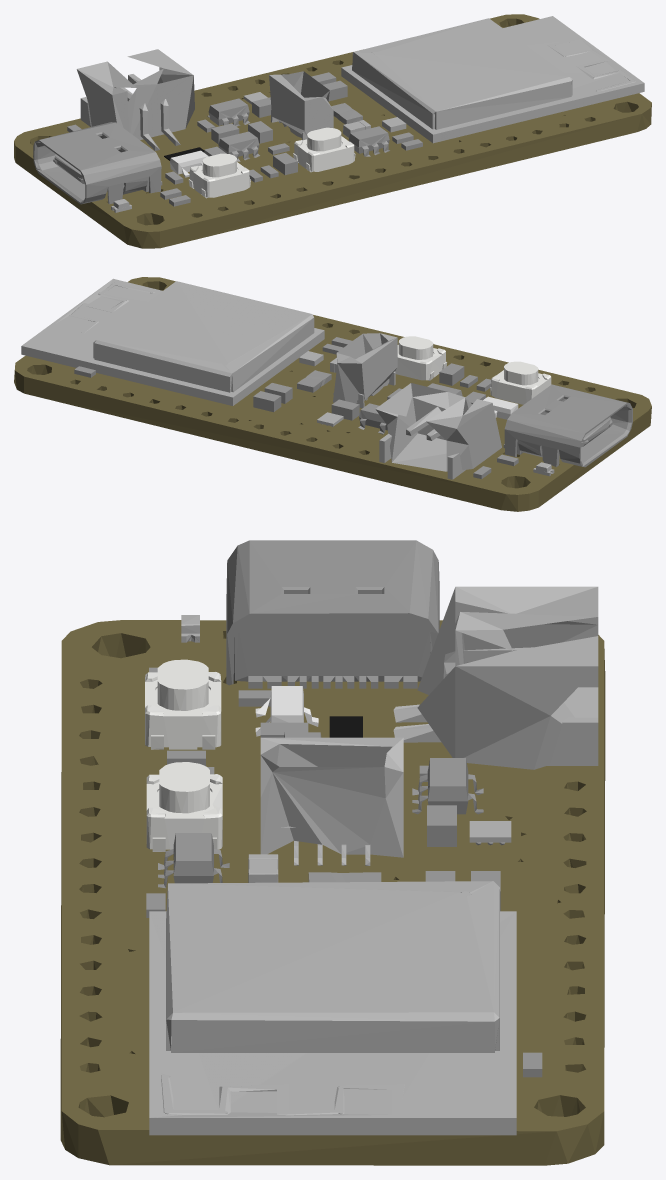
File: adafruit-5323-feather-esp32-s3.glb
3 views of the same model, one above another, from view 1: azimuth 30°, elevation 25°; view 2: azimuth 150°, elevation 25°; view 3: azimuth 270°, elevation 25° (orthographic). The views are drawn at different scales.
Visible parts, largest first — view 1: colour 4, colour 1, colour 2, colour 5, colour 6; view 2: colour 4, colour 1, colour 2, colour 5, colour 6; view 3: colour 4, colour 1, colour 2, colour 5, colour 6.
Boxes of the visible parts, box(x1,y1,x2,y2) form: colour 4: box(55, 16, 644, 212); colour 1: box(14, 14, 651, 248); colour 2: box(33, 72, 422, 206); colour 5: box(188, 127, 355, 198); colour 6: box(170, 150, 208, 177); colour 4: box(21, 278, 610, 479); colour 1: box(14, 277, 651, 511); colour 2: box(74, 337, 632, 479); colour 5: box(395, 336, 551, 404); colour 6: box(483, 396, 518, 419); colour 4: box(149, 586, 598, 1135); colour 1: box(60, 620, 605, 1165); colour 2: box(146, 540, 542, 1077); colour 5: box(145, 659, 222, 851); colour 6: box(255, 686, 318, 736).
Size of the model in its own units: 0.0522 by 0.00637 by 0.0229.
